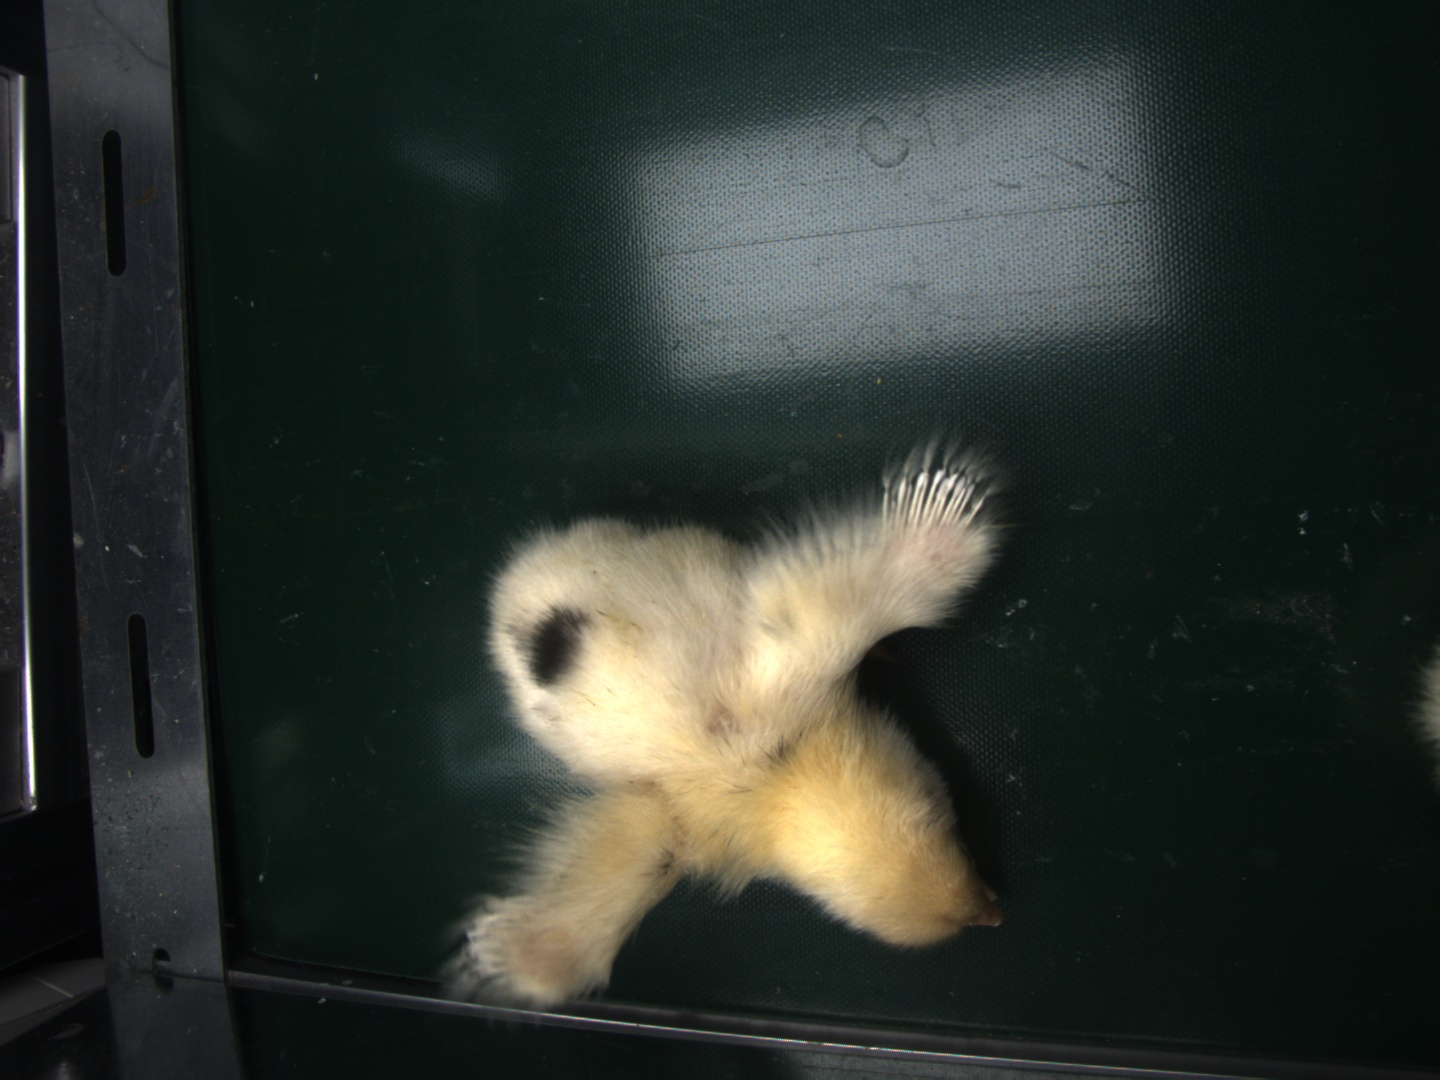male: (884, 465, 982, 533)
